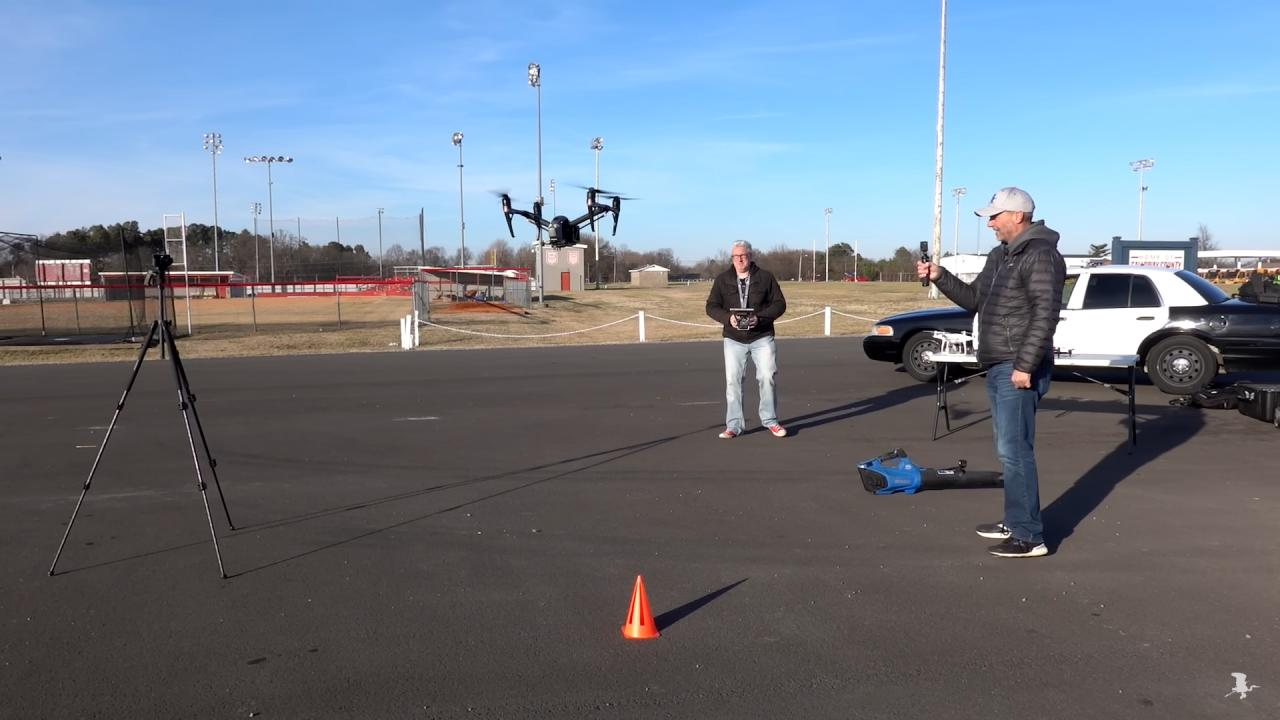Drone: (473, 170, 656, 263)
